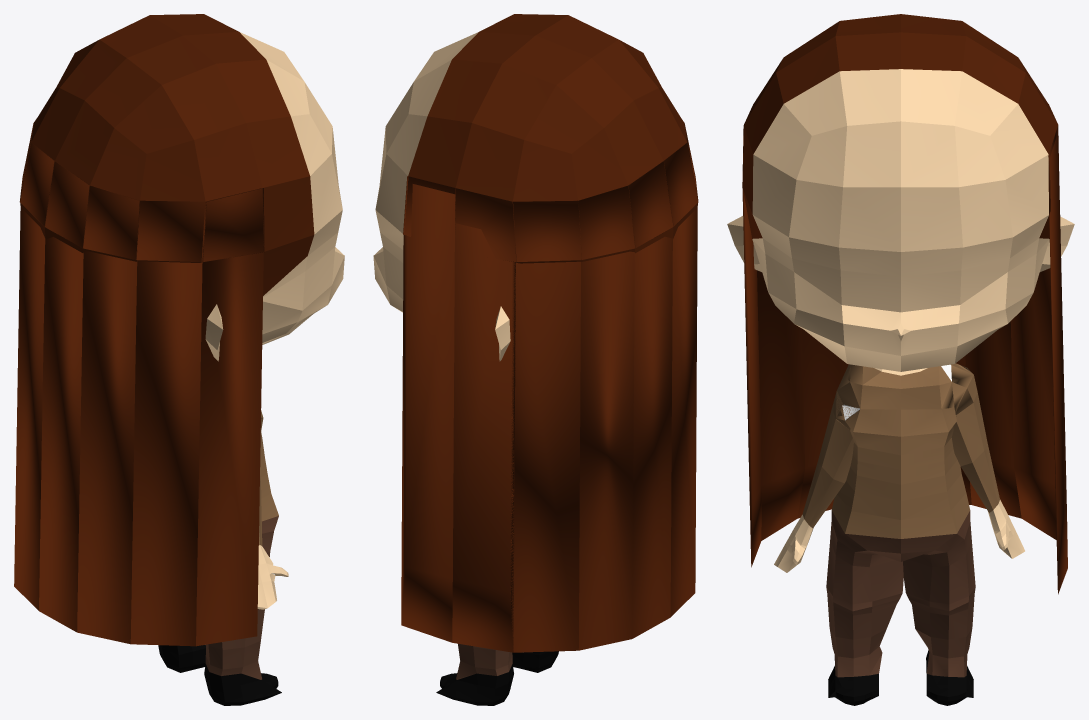
The picture shows the model from 3 angles, left to right: view 1: azimuth 30°, elevation 25°; view 2: azimuth 150°, elevation 25°; view 3: azimuth 270°, elevation 25°; orthographic projection.
Parts seen in each view (by area): view 1: head2; view 2: head2; view 3: head2.
Part boxes in pixels (bbox=[...]): head2: bbox=[14, 14, 344, 705]; head2: bbox=[373, 14, 698, 705]; head2: bbox=[727, 14, 1074, 705].
Bounding box in the file's own units: 5.98 × 12.96 × 6.35.
6 materials, 1 textured.
